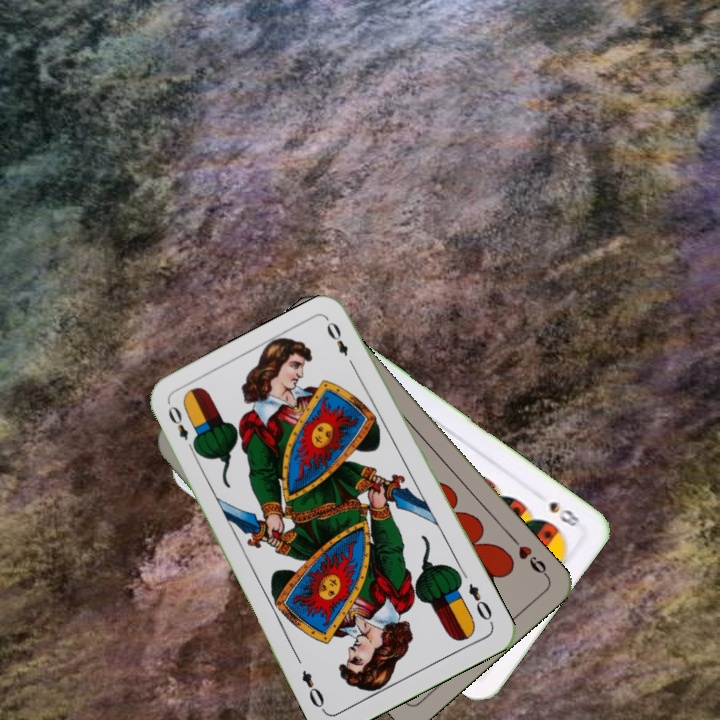EO: (163, 401, 199, 456), (464, 579, 495, 624)
H9: (507, 532, 551, 580)
S8: (545, 497, 583, 529)
